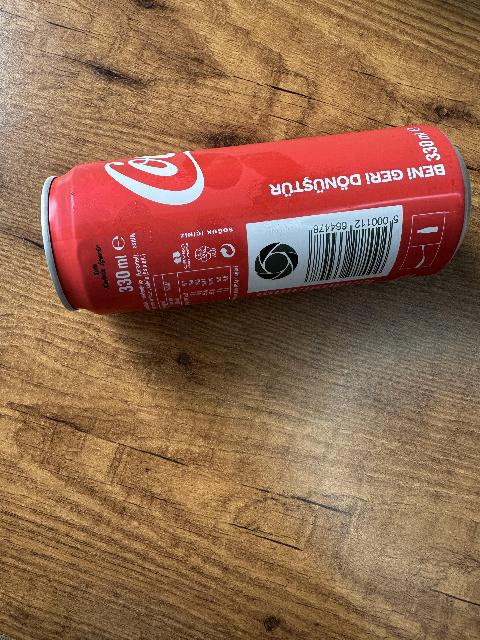Metal: (38, 122, 469, 329)
